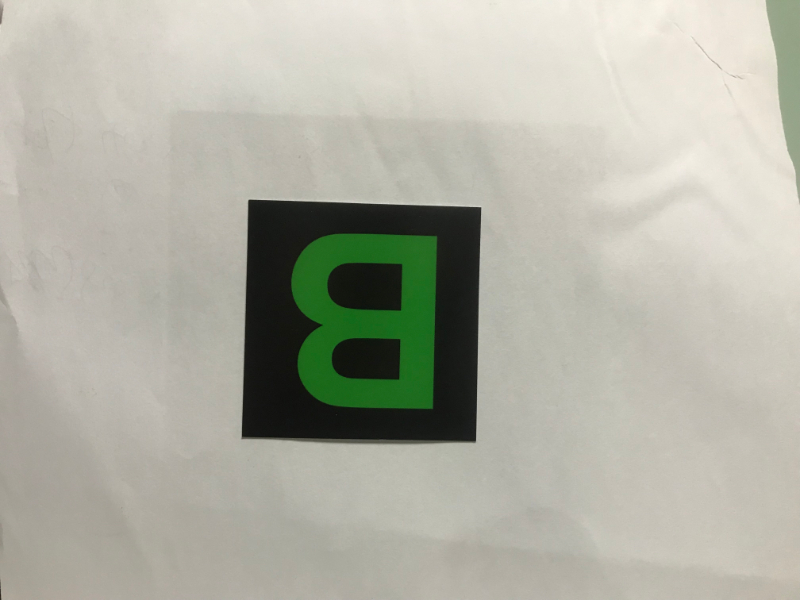B-12: (256, 209, 473, 437)
